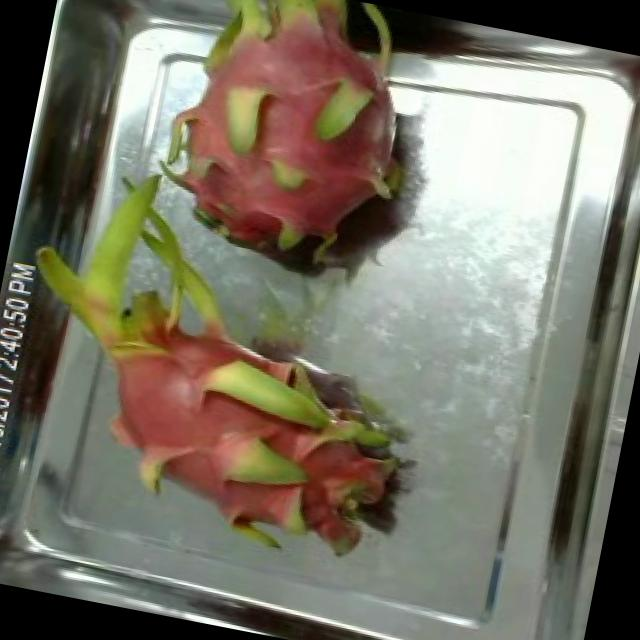Fruit: (272, 416, 420, 575)
